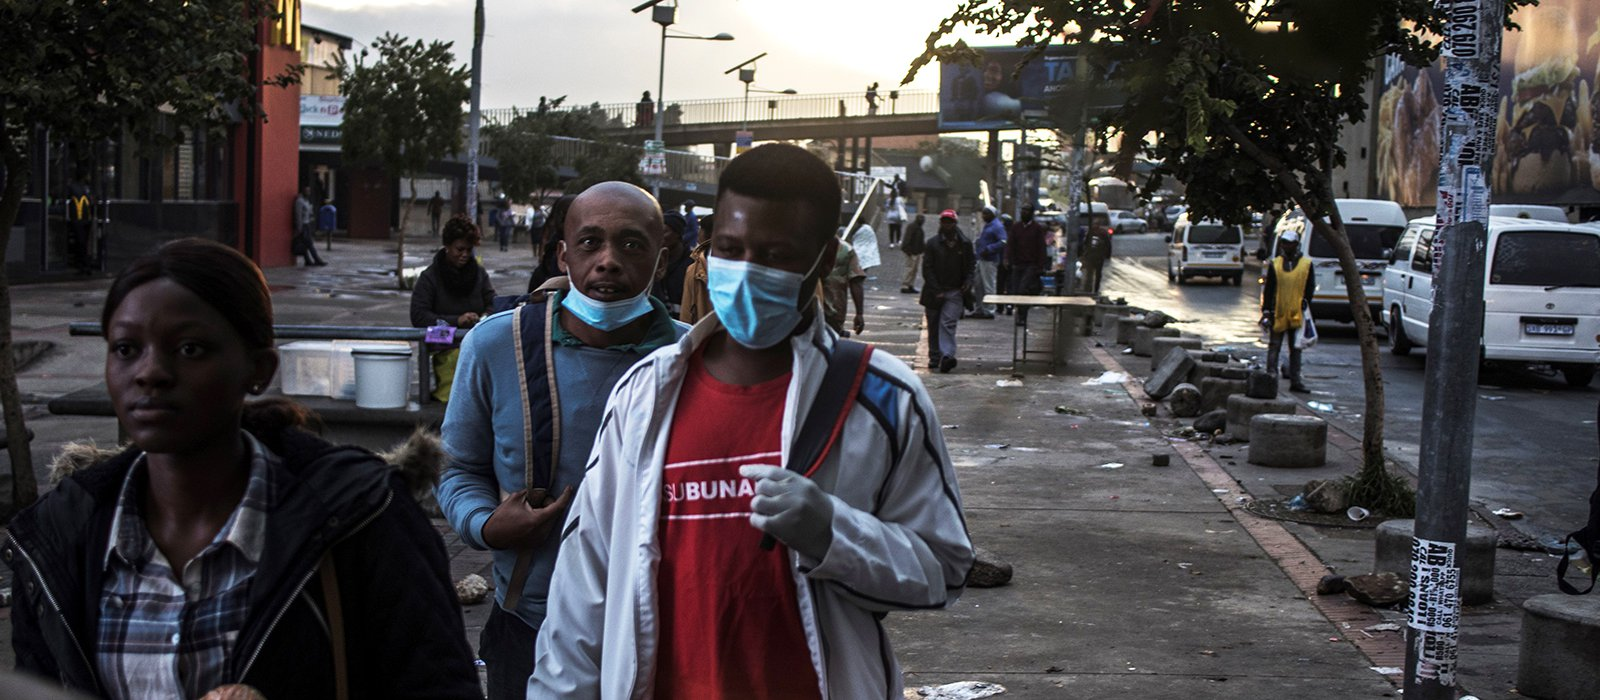with_incorrect_mask: (571, 213, 653, 320)
with_mask: (709, 214, 810, 333)
without_mask: (110, 304, 223, 439), (453, 239, 475, 264)
